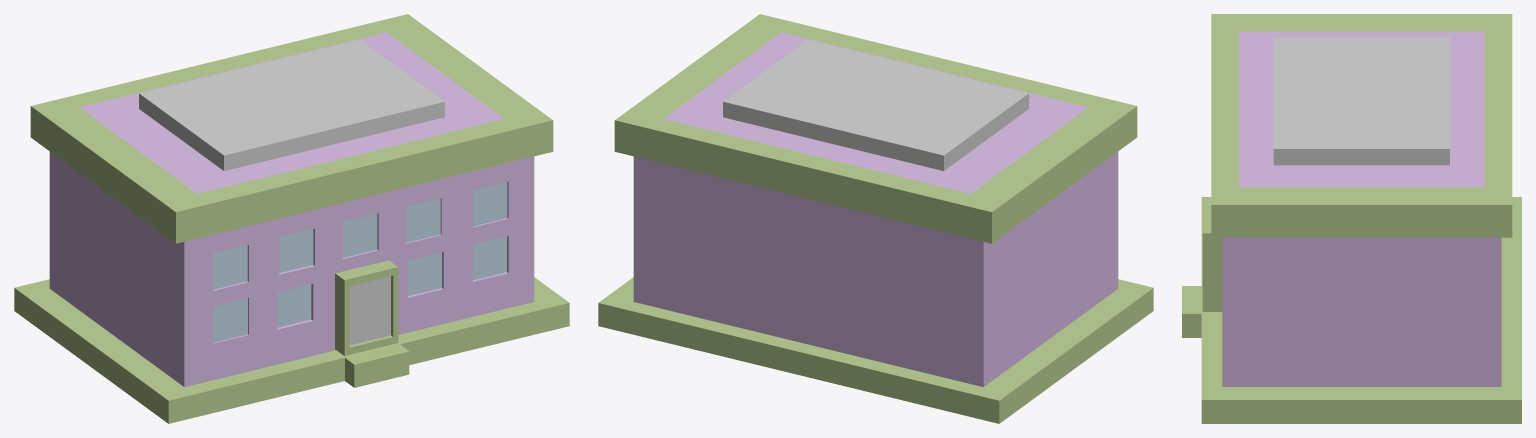
The model's file is gumball hospital.fbx.
3 renders of one model, left to right at view 1: azimuth 30°, elevation 25°; view 2: azimuth 150°, elevation 25°; view 3: azimuth 270°, elevation 25°, orthographic. The views are drawn at different scales.
Parts seen in each view (by area): view 1: HospitalBase, Roof, Roof.003, Roof.002, Roof.001, Door, Door.001, Windows.003, Windows.008, Windows.004, Windows, Windows.002 (+4 smaller); view 2: HospitalBase, Roof, Roof.003, Roof.002, Roof.001; view 3: HospitalBase, Roof, Roof.003, Roof.002, Roof.001, Door.
Part boxes in pixels (x1,y1,x2,y2): HospitalBase: [49, 151, 534, 387]; Roof: [30, 14, 553, 243]; Roof.003: [139, 39, 444, 170]; Roof.002: [14, 277, 569, 423]; Roof.001: [79, 32, 504, 193]; Door: [335, 260, 398, 355]; Door.001: [349, 276, 390, 345]; Windows.003: [406, 198, 440, 242]; Windows.008: [213, 298, 247, 342]; Windows.004: [473, 182, 507, 226]; Windows: [213, 245, 247, 289]; Windows.002: [343, 213, 377, 257]; HospitalBase: [633, 151, 1118, 387]; Roof: [614, 14, 1137, 243]; Roof.003: [723, 39, 1028, 170]; Roof.002: [598, 277, 1153, 423]; Roof.001: [663, 32, 1088, 193]; HospitalBase: [1222, 237, 1501, 386]; Roof: [1211, 14, 1512, 237]; Roof.003: [1273, 37, 1449, 165]; Roof.002: [1182, 197, 1521, 423]; Roof.001: [1239, 31, 1484, 187]; Door: [1202, 206, 1222, 311].
Bounding box in the file's own units: 1328 × 699 × 940.
